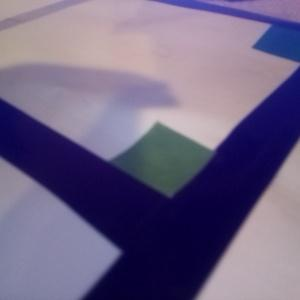bottom_left: (252, 22, 300, 63)
top_left: (110, 121, 217, 241)
